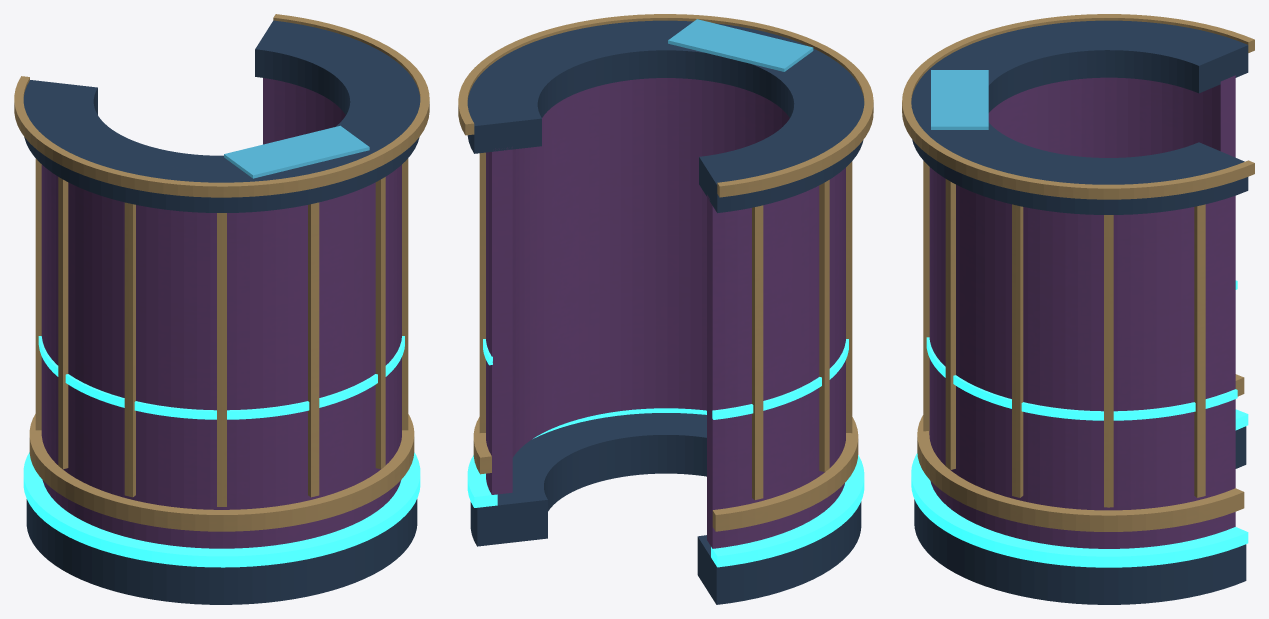
The model's file is court3d__trial_podium.glb.
3 renders of one model, left to right at view 1: azimuth 30°, elevation 25°; view 2: azimuth 150°, elevation 25°; view 3: azimuth 270°, elevation 25°, orthographic.
Visible parts, largest first — view 1: MovablePodium; view 2: MovablePodium; view 3: MovablePodium.
Boxes of the visible parts, x1=… form: MovablePodium: x1=14, y1=14, x2=429, y2=604; MovablePodium: x1=458, y1=14, x2=873, y2=604; MovablePodium: x1=902, y1=14, x2=1254, y2=604.
Bounding box in the file's own units: 1.36 × 1.54 × 1.16.
Materials: 1 (1 with a texture image).
